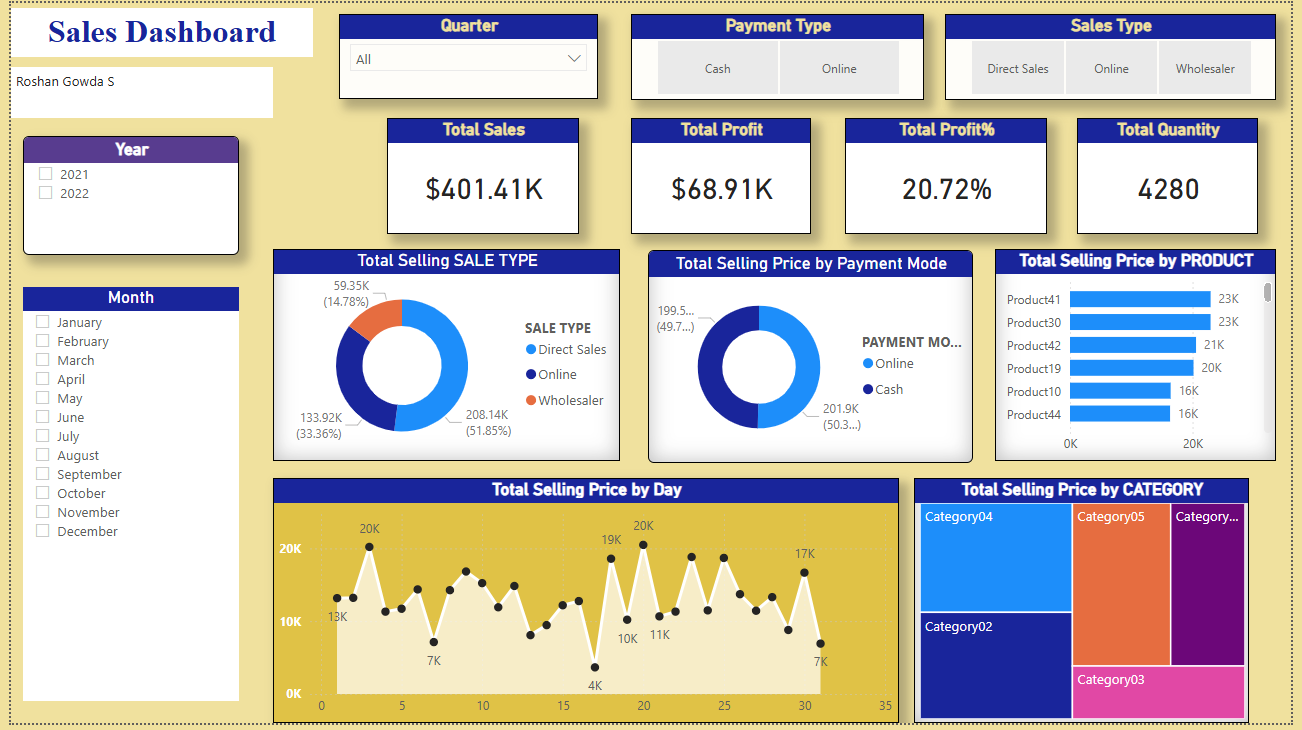

What the dashboard file says about the page in this screenshot:
{"tool":"powerbi","page":{"name":"Page 1","canvas":[1280,720],"ordinal":0},"visuals":[{"type":"card","title":"Total Sales ","fields":{"Values":["input data.Total Sales"]},"box":[376,115.3,192.1,115.3],"z":0},{"type":"card","title":"Total Profit ","fields":{"Values":["input data.Total Profit"]},"box":[620.2,115.3,179.8,115.3],"z":1000},{"type":"card","title":"Total Profit%","fields":{"Values":["input data.Profit %"]},"box":[834.3,115.3,201.7,115.3],"z":2000},{"type":"card","title":"Total Quantity","fields":{"Values":["input data.Total Quantity"]},"box":[1066.2,115.3,181.1,115.3],"z":3000},{"type":"slicer","title":"Quarter","fields":{"Values":["input data.DATE"]},"box":[328,11,259.3,85.1],"z":4000},{"type":"slicer","title":"Payment Type ","fields":{"Values":["input data.PAYMENT MODE"]},"box":[620.2,11,292.3,86.4],"z":5000},{"type":"slicer","title":"Sales Type","fields":{"Values":["input data.SELLING TYPE"]},"box":[934.5,11,330.7,86.4],"z":6000},{"type":"slicer","title":"Year ","fields":{"Values":["input data.DATE.Variation.Date Hierarchy.Year"]},"box":[12.3,133.1,215.4,119.4],"z":7000},{"type":"slicer","title":"Month","fields":{"Values":["input data.DATE.Variation.Date Hierarchy.Month"]},"box":[12.3,284,215.4,414.4],"z":8000},{"type":"donutChart","title":"Total Selling SALE TYPE","fields":{"Y":["Sum(input data.Total Selling Price)"],"Category":["input data.SELLING TYPE"]},"box":[262.1,245.6,347.2,212.7],"z":9000},{"type":"donutChart","title":"Total Selling Price by Payment Mode","fields":{"Y":["Sum(input data.Total Selling Price)"],"Category":["input data.PAYMENT MODE"]},"box":[636.7,247,325.2,212.7],"z":10000},{"type":"clusteredBarChart","title":"Total Selling Price by PRODUCT","fields":{"Y":["Sum(input data.Total Selling Price)"],"Category":["input data.PRODUCT"]},"box":[983.9,245.6,281.3,212.7],"z":11000},{"type":"areaChart","title":"Total Selling Price by Day","fields":{"Y":["Sum(input data.Total Selling Price)"],"Category":["input data.DATE.Variation.Date Hierarchy.Day"]},"box":[262.1,474.8,625.7,245.6],"z":12000},{"type":"treemap","title":"Total Selling Price by CATEGORY","fields":{"Values":["Sum(input data.Total Selling Price)"],"Group":["input data.CATEGORY"]},"box":[902.9,474.8,334.8,245.6],"z":13000},{"type":"textbox","box":[0,5.5,301.9,48],"z":14000},{"type":"textbox","box":[0,64.5,262.1,50.8],"z":15000}]}

Visuals, with their boxes in screenshot pixels (x1, y1, x2, y2), scaled from the page's 1280x720 canvas onto the 1302x730 screenshot:
"Total Sales " card: bbox=(382, 117, 578, 234)
"Total Profit " card: bbox=(631, 117, 814, 234)
"Total Profit%" card: bbox=(849, 117, 1054, 234)
"Total Quantity" card: bbox=(1085, 117, 1269, 234)
"Quarter" slicer: bbox=(334, 11, 597, 97)
"Payment Type " slicer: bbox=(631, 11, 928, 99)
"Sales Type" slicer: bbox=(951, 11, 1287, 99)
"Year " slicer: bbox=(13, 135, 232, 256)
"Month" slicer: bbox=(13, 288, 232, 708)
"Total Selling SALE TYPE" donutChart: bbox=(267, 249, 620, 465)
"Total Selling Price by Payment Mode" donutChart: bbox=(648, 250, 978, 466)
"Total Selling Price by PRODUCT" clusteredBarChart: bbox=(1001, 249, 1287, 465)
"Total Selling Price by Day" areaChart: bbox=(267, 481, 903, 729)
"Total Selling Price by CATEGORY" treemap: bbox=(918, 481, 1259, 729)
textbox: bbox=(0, 6, 307, 54)
textbox: bbox=(0, 65, 267, 117)
